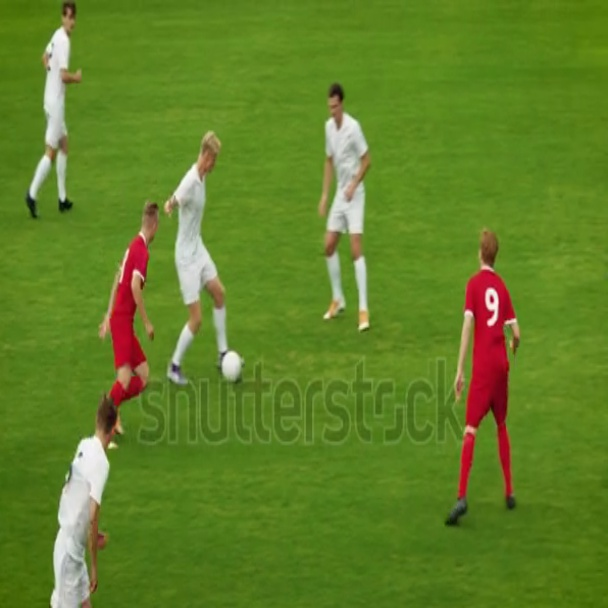ball: (217, 345, 247, 391)
